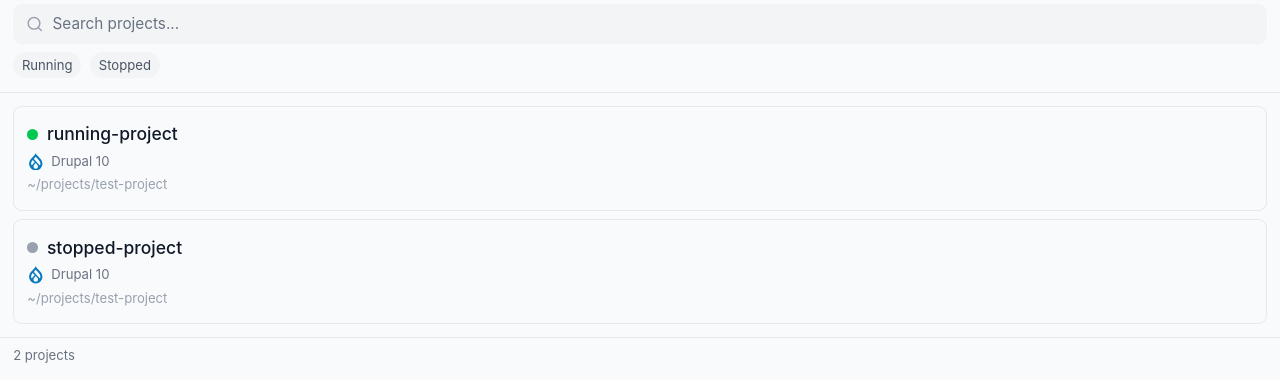
Test case: ProjectList › status filter › should filter by stopped status
This screenshot has width=1280, height=380.
Expected: the heading "stopped-project" is shown, [47,236,182,258]
Step 1. Click the button "Stopped" → (125, 65), box [90,52,160,78]
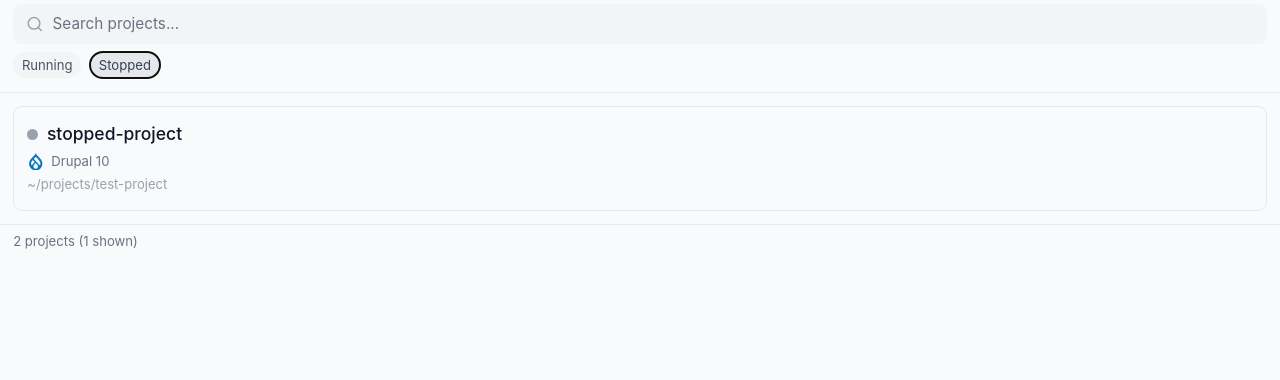
Expected: the heading "stopped-project" is shown, [47,123,182,144]
Expected: the option "running-project" is gone
